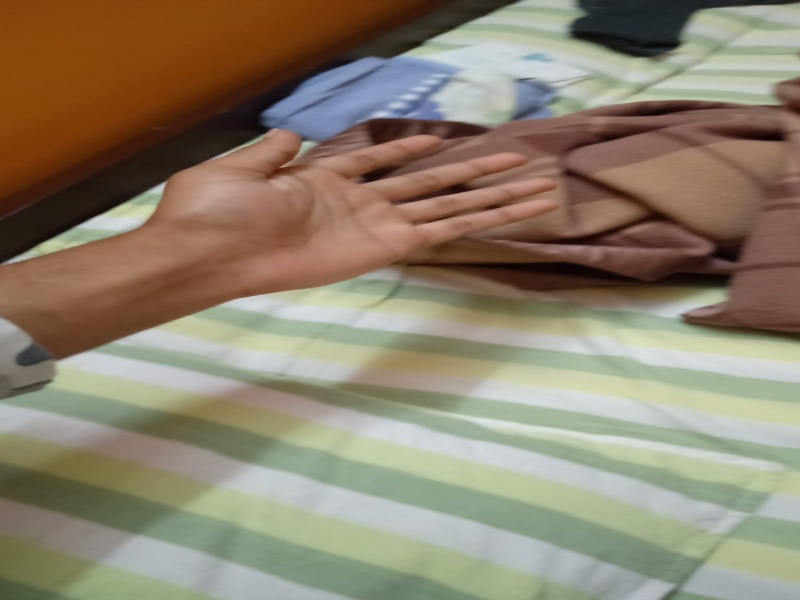Hand: (140, 124, 563, 304)
